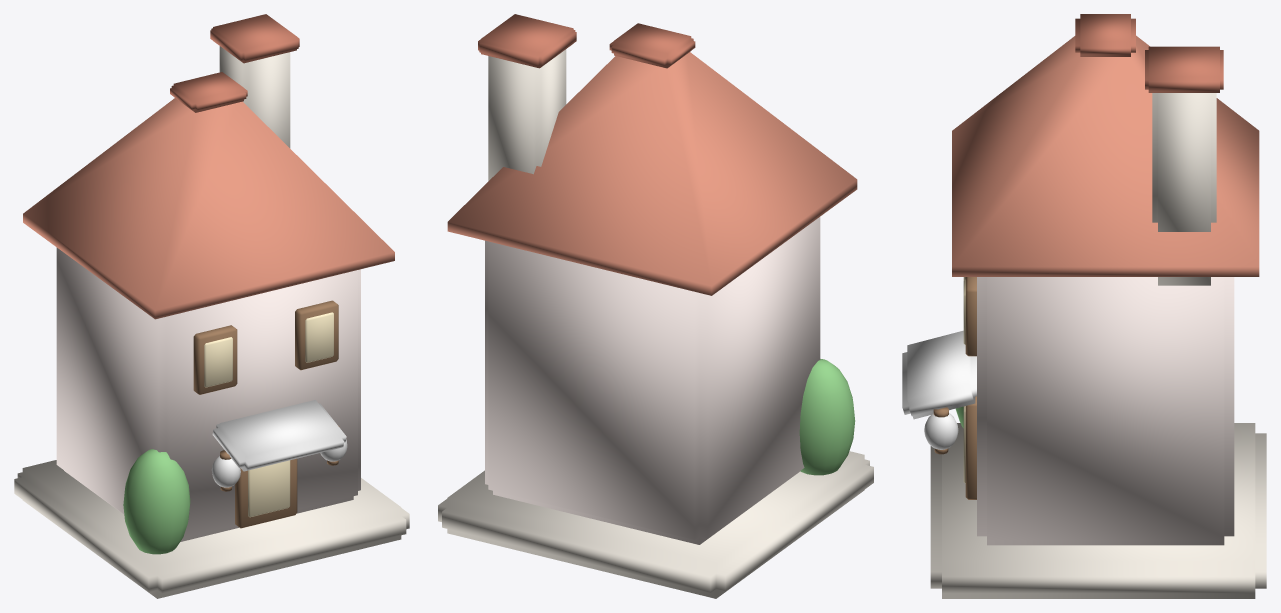
File: lvl2_dalat.glb
3 views of the same model, side by side, from view 1: azimuth 30°, elevation 25°; view 2: azimuth 150°, elevation 25°; view 3: azimuth 270°, elevation 25° (orthographic). The views are drawn at different scales.
Parts seen in each view (by area): view 1: lvl2_dalat; view 2: lvl2_dalat; view 3: lvl2_dalat.
Boxes of the visible parts, box(x1,y1,x2,y2) form: lvl2_dalat: box(14, 14, 409, 598); lvl2_dalat: box(438, 14, 873, 598); lvl2_dalat: box(902, 14, 1266, 598).
Size of the model in its own units: 0.49 by 0.7925 by 0.5095.
